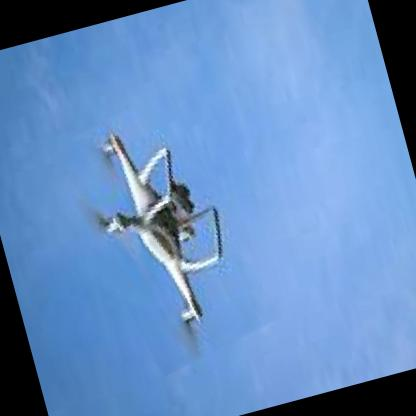drone: (54, 82, 274, 380)
